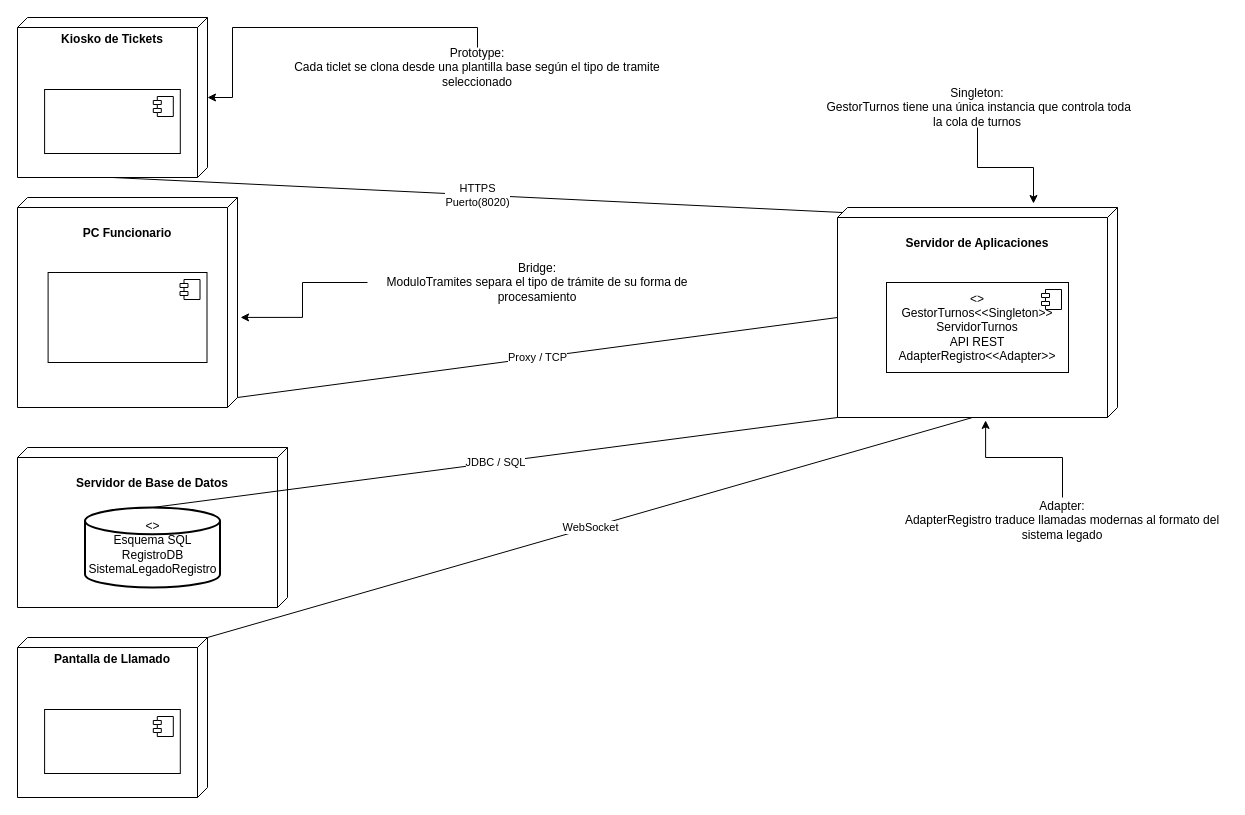
Some shapes in this 1245 by 815 pixel diagram are drawn without their labels. Each missing label, with the centre of its shape:
<> ClienteAtencion ModuloTramites: [127,317]
<> DisplayTurnos ReproductorAudio: [112,741]
<> InterfazCiudadano ImpresoraTickets: [112,121]
